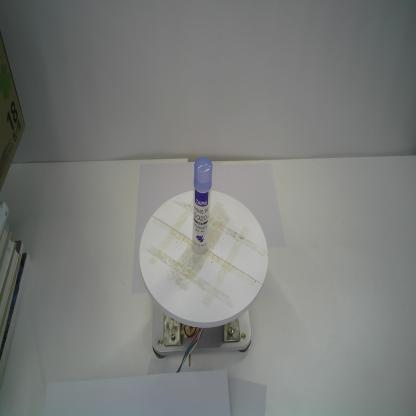Stationery: (190, 156, 214, 257)
